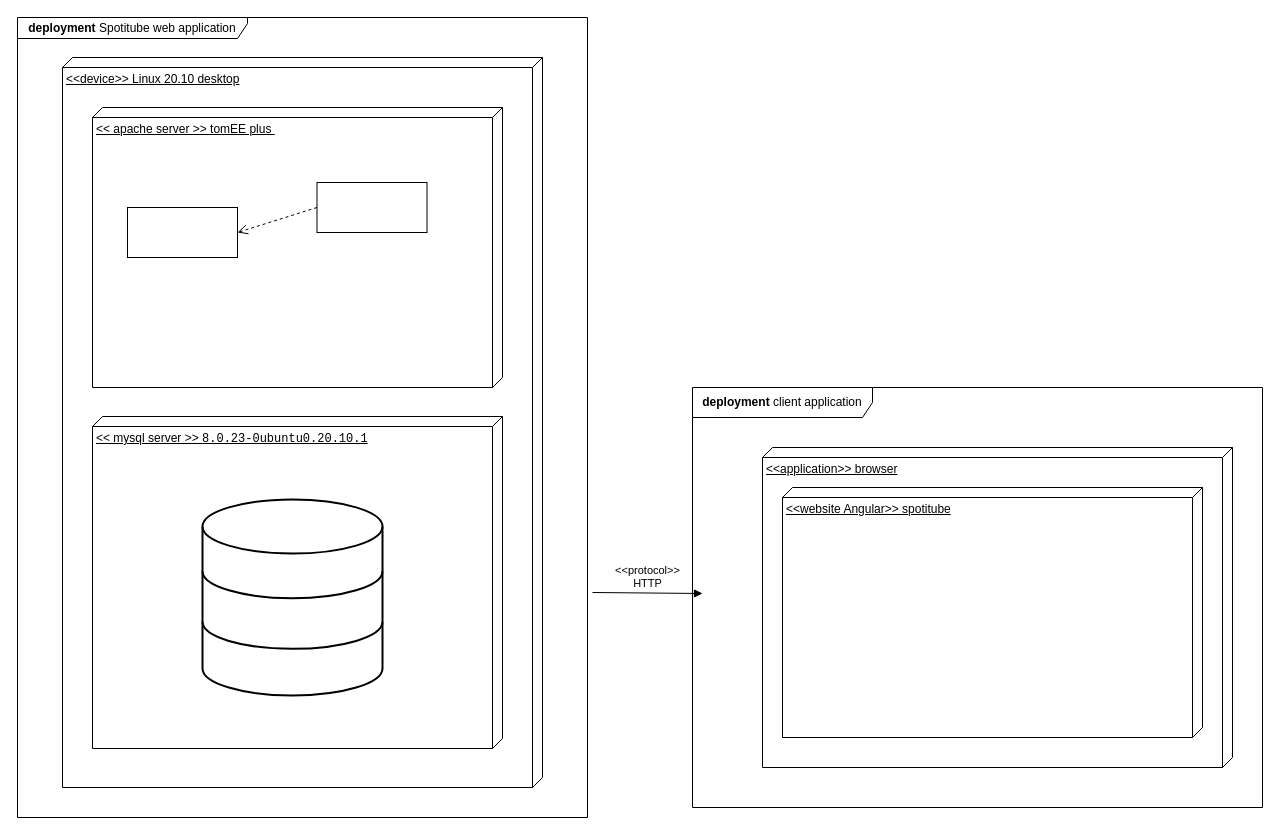
Some shapes in this 1280 by 835 pixel diagram are drawn without their labels. The shapes that lost their labels are listed below. From the top down, each one's centre as x and y in pixels, then its label:
At [371,207]: "«deployment spec» web.xml".
At [182,232]: "«artifact» Spotitube.war".
At [292,597]: "<<database>> Spotitube".
